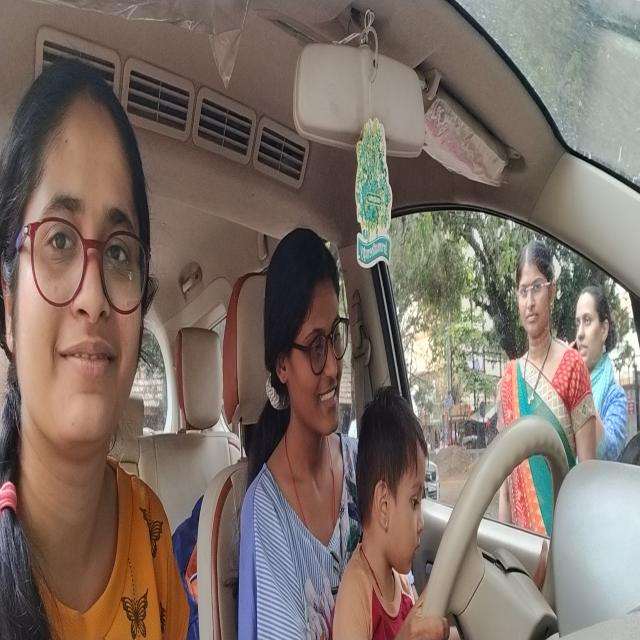child: (356, 375, 428, 582)
person: (0, 68, 158, 466), (263, 229, 356, 464)
